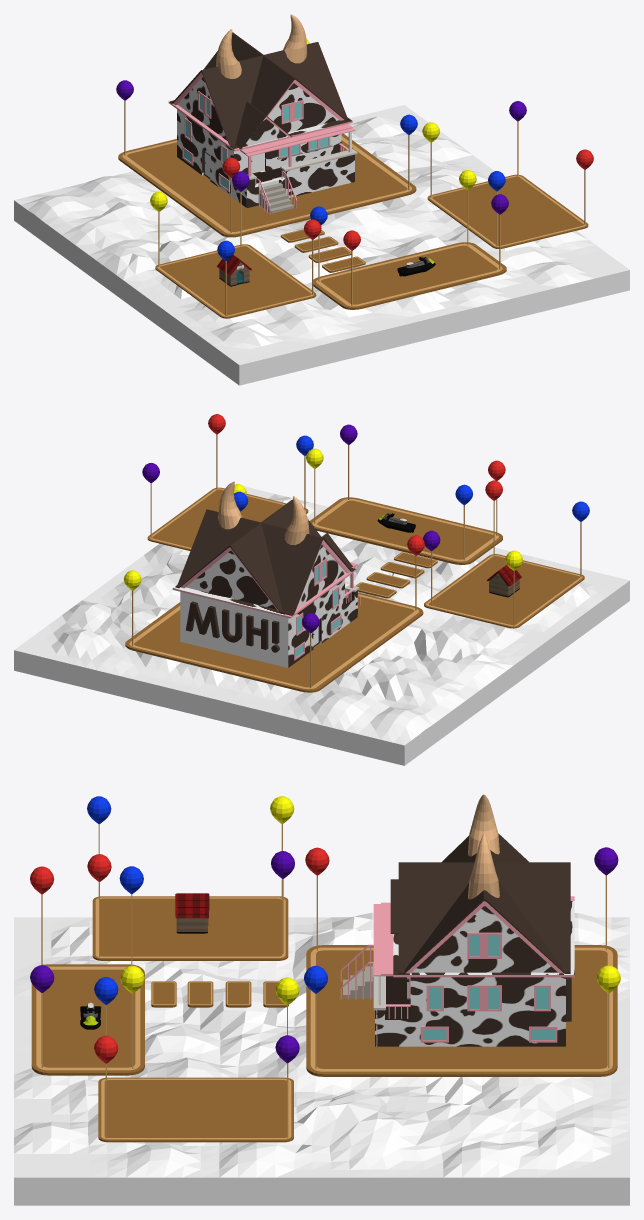
3 views of the same model, one above another, from view 1: azimuth 30°, elevation 25°; view 2: azimuth 150°, elevation 25°; view 3: azimuth 270°, elevation 25° (orthographic). The views are drawn at different scales.
Visible parts, largest first — view 1: Cube.013, Cube.1242, OBJRANDOM_DOGHOUSE; view 2: Cube.013, Cube.1242, OBJRANDOM_DOGHOUSE; view 3: Cube.013, Cube.1242, OBJRANDOM_DOGHOUSE.
Part boxes in pixels (<box>): Cube.013: <box>14,38,629,385</box>; Cube.1242: <box>168,14,357,214</box>; OBJRANDOM_DOGHOUSE: <box>217,255,251,286</box>; Cube.013: <box>14,414,629,765</box>; Cube.1242: <box>172,481,360,667</box>; OBJRANDOM_DOGHOUSE: <box>487,565,521,597</box>; Cube.013: <box>14,796,629,1205</box>; Cube.1242: <box>340,794,574,1046</box>; OBJRANDOM_DOGHOUSE: <box>175,893,209,933</box>.
Size of the model in its own units: 4000 by 2048 by 4000.
31 materials, 1 textured.
